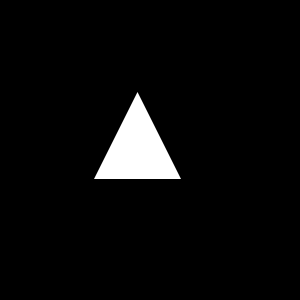triangle: (94, 92, 181, 179)
